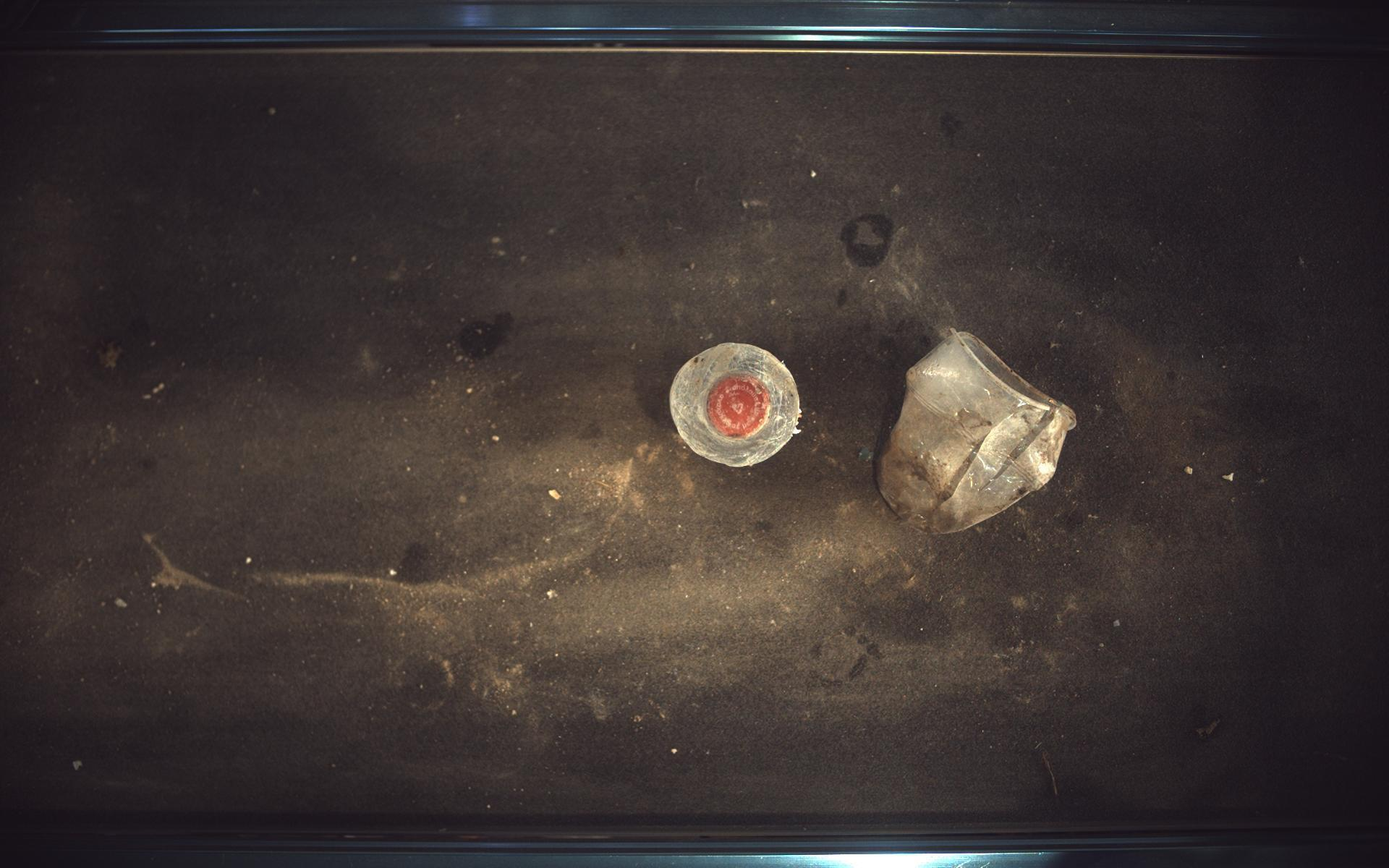general_w: (879, 328, 1079, 534), (671, 343, 802, 467)
